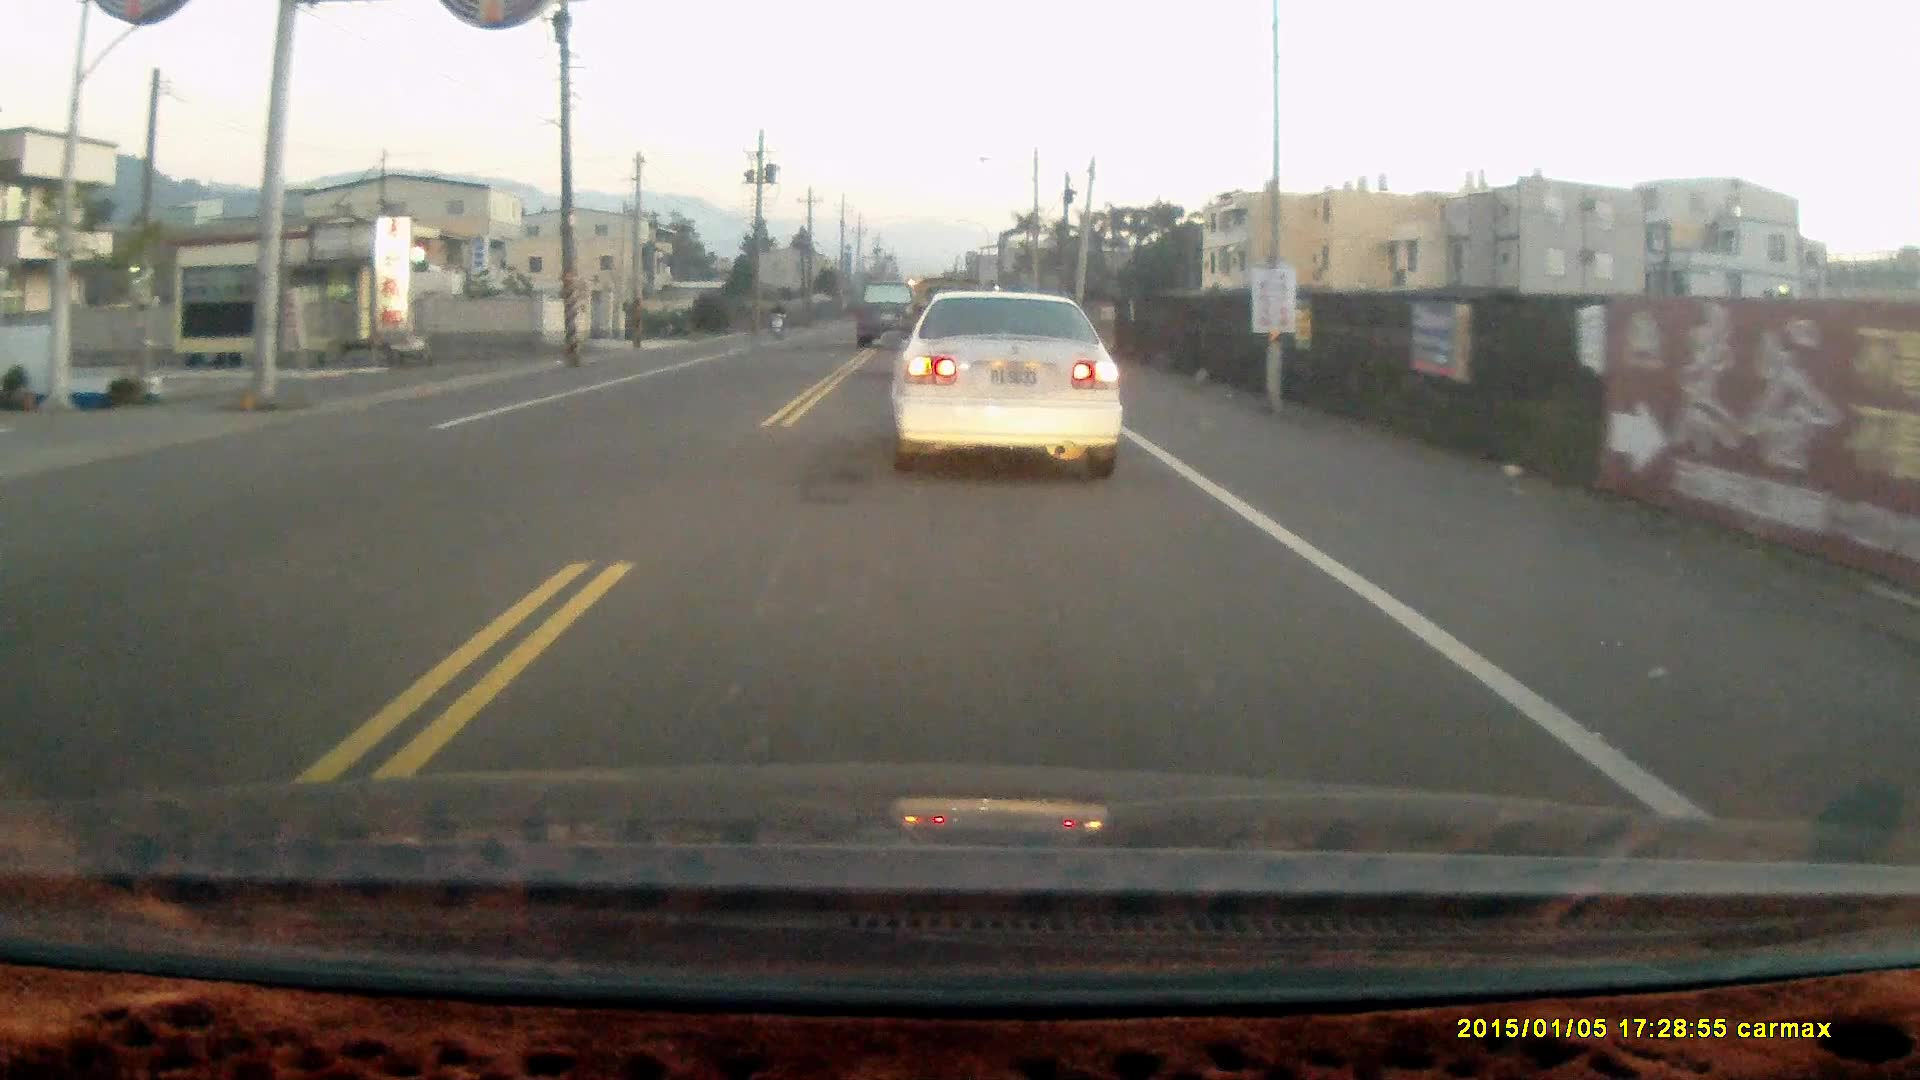rider: (766, 297, 787, 341)
vehicle: (886, 290, 1129, 482), (853, 278, 923, 351)
